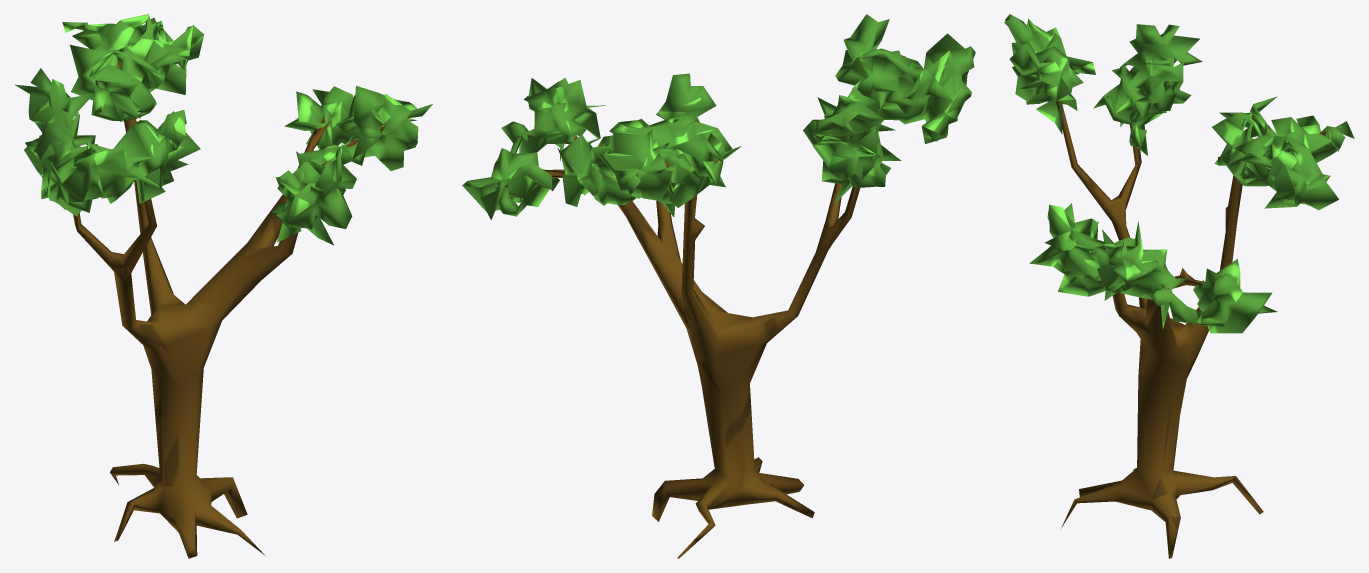
The model's file is arbol1DecLow.fbx.
3 renders of one model, left to right at view 1: azimuth 30°, elevation 25°; view 2: azimuth 150°, elevation 25°; view 3: azimuth 270°, elevation 25°, orthographic. The views are drawn at different scales.
Parts seen in each view (by area): view 1: Arbol1; view 2: Arbol1; view 3: Arbol1.
Part boxes in pixels (x1,y1,x2,y2): Arbol1: (15, 14, 432, 558); Arbol1: (462, 14, 975, 558); Arbol1: (1004, 14, 1354, 558).
Size of the model in its own units: 1041 by 1180 by 827.
2 materials, 2 textured.
